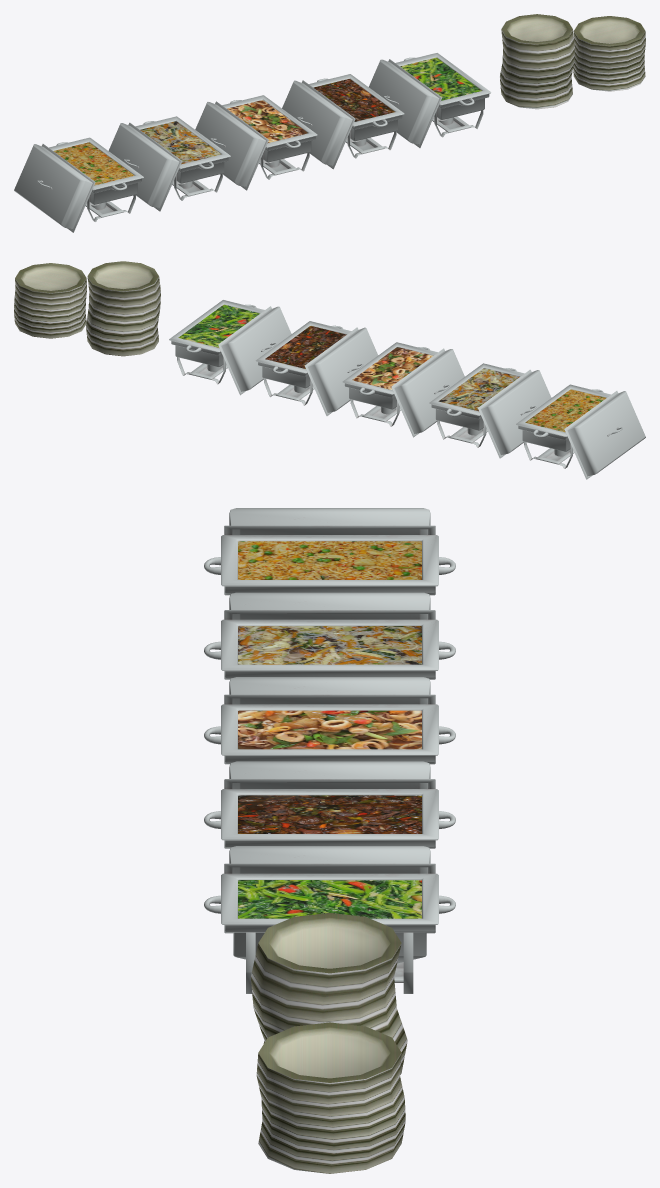
Rendered from Buffets, foods, and stack of plates.fbx.
3 views of the same model, one above another, from view 1: azimuth 30°, elevation 25°; view 2: azimuth 150°, elevation 25°; view 3: azimuth 270°, elevation 25° (orthographic). The views are drawn at different scales.
Visible parts, largest first — view 1: Stack of Plate, Stack of Plate 2, Food Warmer Lid, Food Warmer Lid 2, Food Warmer Lid 3, Food Warmer Lid 4, Food Warmer Lid 5, Food Warmer 5, Food Warmer 4, Food Warmer 3, Food Warmer 2, Food Warmer (+5 smaller); view 2: Stack of Plate, Stack of Plate 2, Food Warmer Lid, Food Warmer Lid 2, Food Warmer Lid 3, Food Warmer Lid 4, Food Warmer Lid 5, Food Warmer 2, Food Warmer 5, Food Warmer 4, Food Warmer 3, Food Warmer (+5 smaller); view 3: Stack of Plate 2, Stack of Plate, Cumi Kuah, Capjay, Semur Daging, Nasi Goreng, Food Warmer 5, Cah Kangkung, Food Warmer 2, Food Warmer 3, Food Warmer, Food Warmer 4 (+5 smaller).
Boxes of the visible parts, bbox=[...] form: Stack of Plate: bbox=[500, 14, 574, 109]; Stack of Plate 2: bbox=[573, 16, 645, 91]; Food Warmer Lid: bbox=[14, 144, 95, 232]; Food Warmer Lid 2: bbox=[108, 122, 182, 211]; Food Warmer Lid 3: bbox=[195, 101, 268, 190]; Food Warmer Lid 4: bbox=[282, 80, 355, 169]; Food Warmer Lid 5: bbox=[369, 59, 442, 147]; Food Warmer 5: bbox=[395, 53, 491, 137]; Food Warmer 4: bbox=[309, 74, 404, 158]; Food Warmer 3: bbox=[222, 95, 317, 179]; Food Warmer 2: bbox=[135, 116, 230, 200]; Food Warmer: bbox=[49, 137, 143, 221]; Stack of Plate: bbox=[86, 261, 160, 356]; Stack of Plate 2: bbox=[14, 263, 86, 338]; Food Warmer Lid: bbox=[564, 391, 645, 479]; Food Warmer Lid 2: bbox=[478, 369, 551, 458]; Food Warmer Lid 3: bbox=[391, 348, 464, 437]; Food Warmer Lid 4: bbox=[305, 327, 378, 415]; Food Warmer Lid 5: bbox=[218, 306, 291, 395]; Food Warmer 2: bbox=[429, 363, 524, 447]; Food Warmer 5: bbox=[169, 300, 264, 384]; Food Warmer 4: bbox=[256, 321, 351, 405]; Food Warmer 3: bbox=[342, 342, 437, 426]; Food Warmer: bbox=[516, 384, 610, 468]; Stack of Plate 2: bbox=[256, 1022, 405, 1173]; Stack of Plate: bbox=[251, 913, 407, 1074]; Cumi Kuah: bbox=[238, 710, 421, 749]; Capjay: bbox=[238, 626, 421, 664]; Semur Daging: bbox=[238, 795, 421, 833]; Nasi Goreng: bbox=[238, 541, 421, 579]; Food Warmer 5: bbox=[204, 873, 455, 993]; Cah Kangkung: bbox=[238, 880, 421, 918]; Food Warmer 2: bbox=[204, 619, 455, 678]; Food Warmer 3: bbox=[204, 704, 455, 762]; Food Warmer: bbox=[204, 535, 455, 593]; Food Warmer 4: bbox=[204, 789, 455, 847].
Size of the model in its own units: 582 by 60 by 106.
7 materials, 7 textured.
